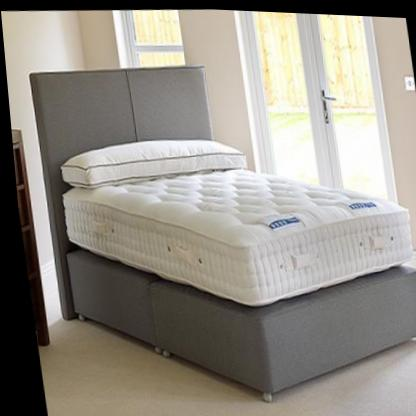Bed: (26, 52, 416, 416)
